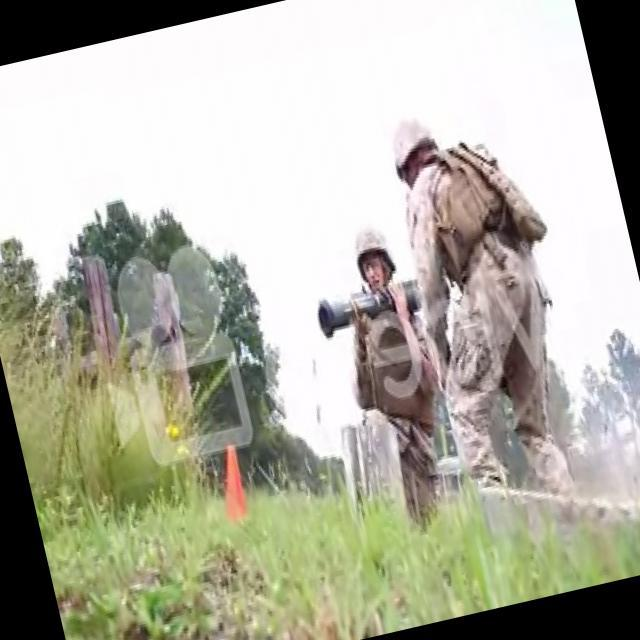rocket: (312, 266, 426, 338)
